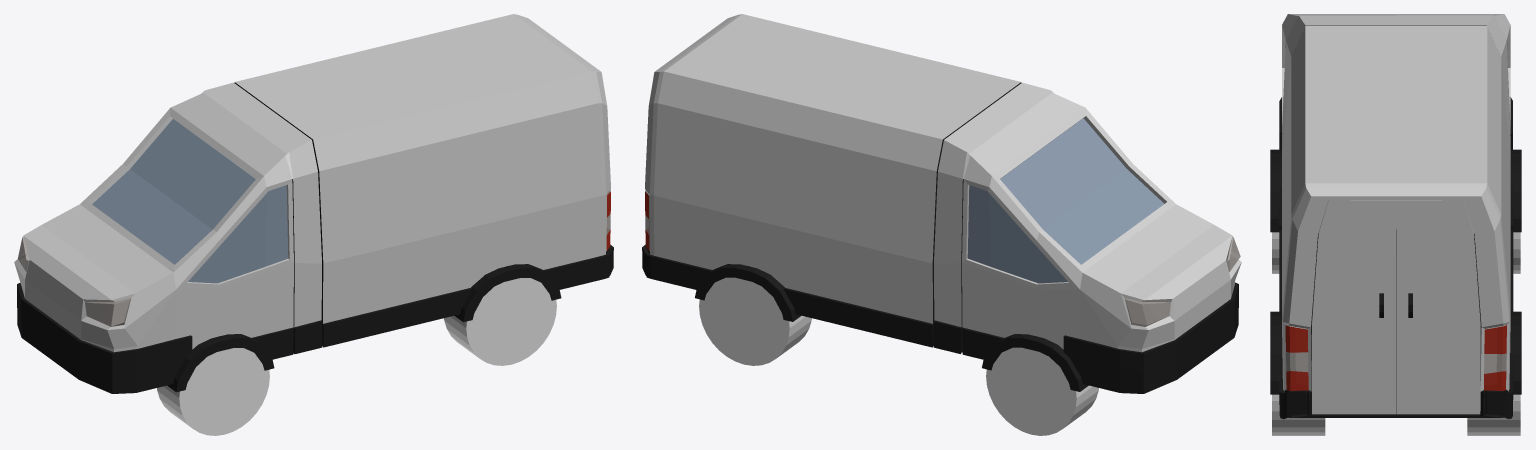
Rendered from Van.glb.
3 views of the same model, side by side, from view 1: azimuth 30°, elevation 25°; view 2: azimuth 150°, elevation 25°; view 3: azimuth 270°, elevation 25° (orthographic). The views are drawn at different scales.
Parts seen in each view (by area): view 1: Body -col, Cylinder.003; view 2: Body -col, Cylinder.003; view 3: Body -col, RightWing -col, LeftWing -col, Cylinder.003.
Part boxes in pixels (x1,y1,x2,y2): Body -col: (14, 14, 613, 393); Cylinder.003: (157, 278, 556, 435); Body -col: (642, 14, 1241, 393); Cylinder.003: (699, 277, 1098, 435); Body -col: (1270, 14, 1521, 419); RightWing -col: (1396, 200, 1480, 414); LeftWing -col: (1312, 200, 1395, 414); Cylinder.003: (1272, 232, 1520, 435).
Bounding box in the file's own units: 19.16 × 9.16 × 6.94.
